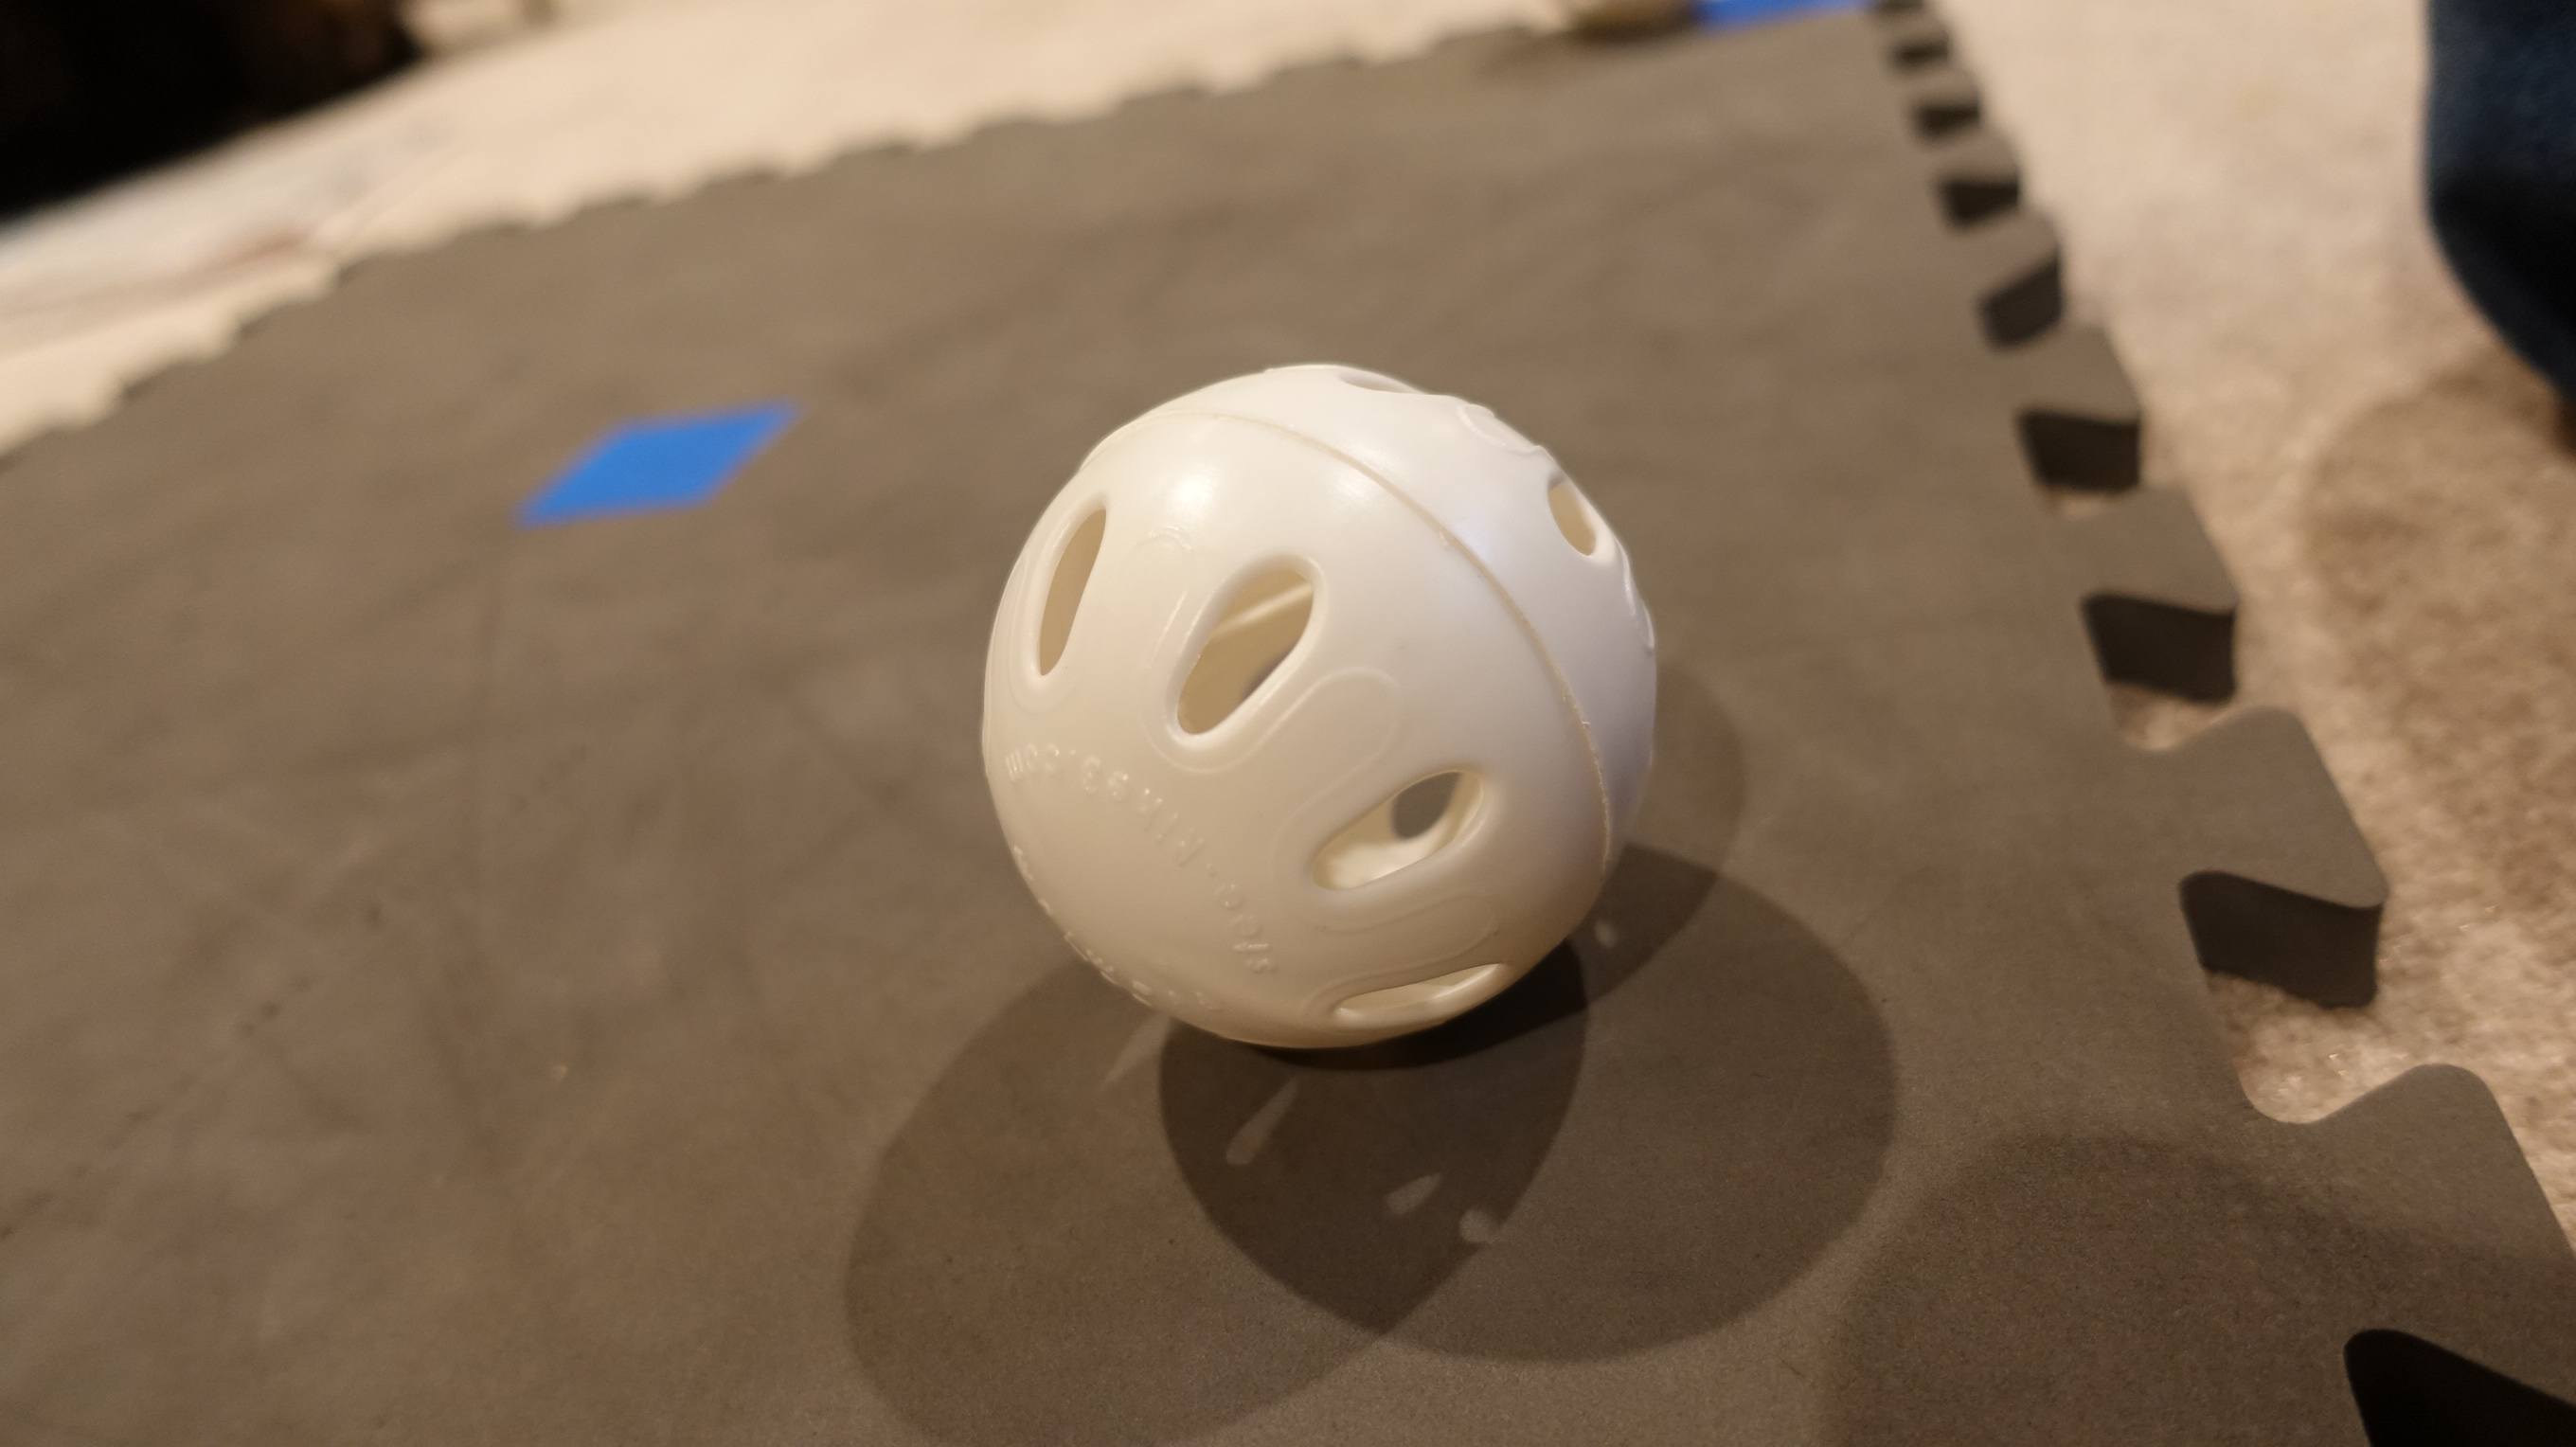silver: (973, 345, 1672, 1074)
